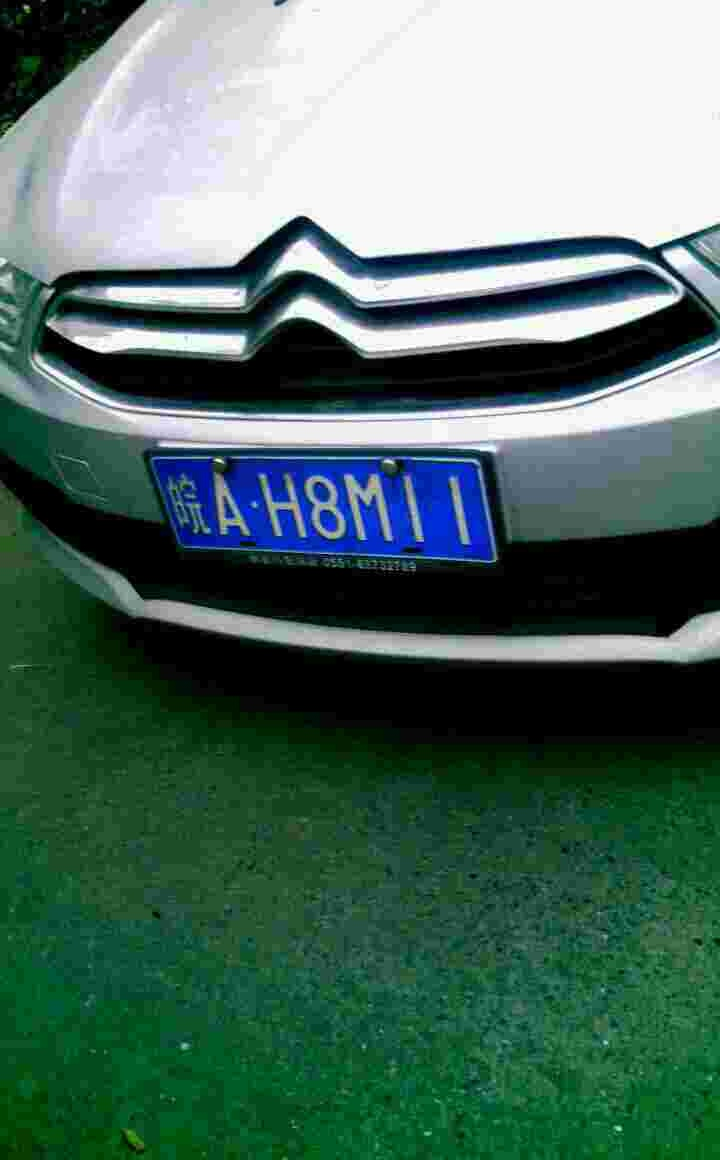license_plate: (160, 446, 523, 555)
